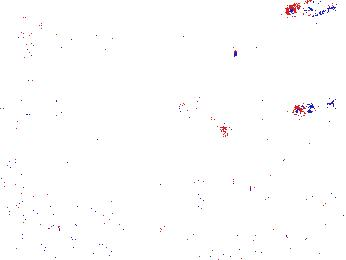X-ray fish: (45, 194, 110, 235), (1, 71, 36, 111)
red belly glassfish: (291, 95, 338, 119), (284, 1, 338, 20)
redtail glassfish: (171, 99, 232, 138)
